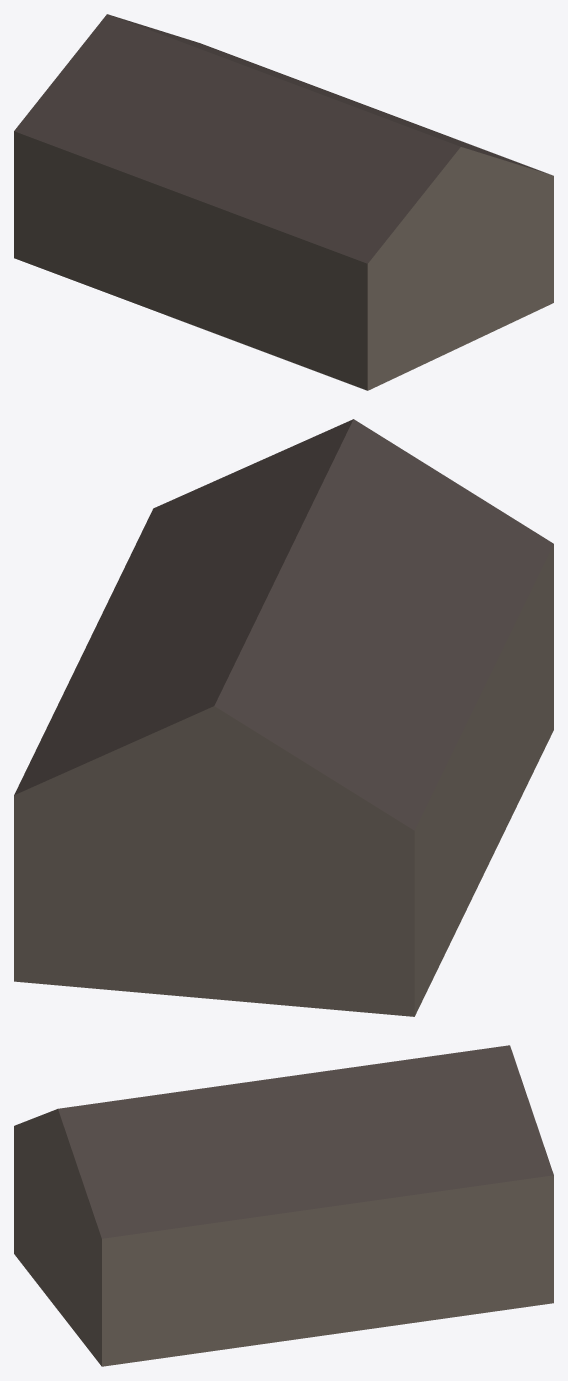
3 renders of one model, top to bottom at view 1: azimuth 30°, elevation 25°; view 2: azimuth 150°, elevation 25°; view 3: azimuth 270°, elevation 25°, orthographic. The views are drawn at different scales.
Parts seen in each view (by area): view 1: HP-w1198840842; view 2: HP-w1198840842; view 3: HP-w1198840842.
Part boxes in pixels (x1,y1,x2,y2): HP-w1198840842: (14, 14, 553, 390); HP-w1198840842: (14, 419, 553, 1016); HP-w1198840842: (14, 1045, 553, 1366).
Size of the model in its own units: 17.75 by 9.45 by 22.95.
